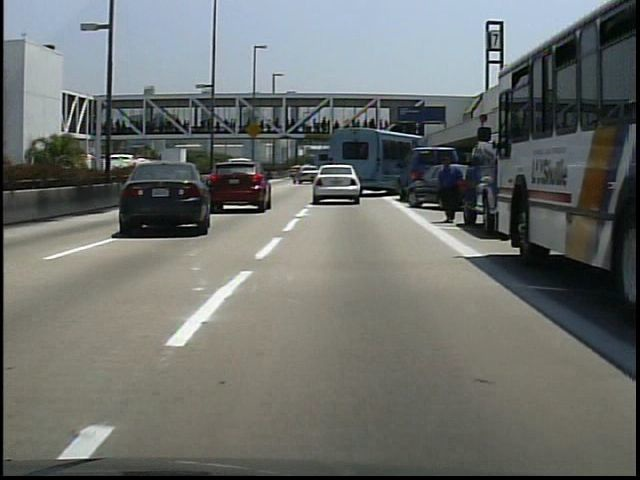person: (433, 159, 465, 228)
